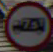Heavy Vehicles: (4, 4, 49, 46)
